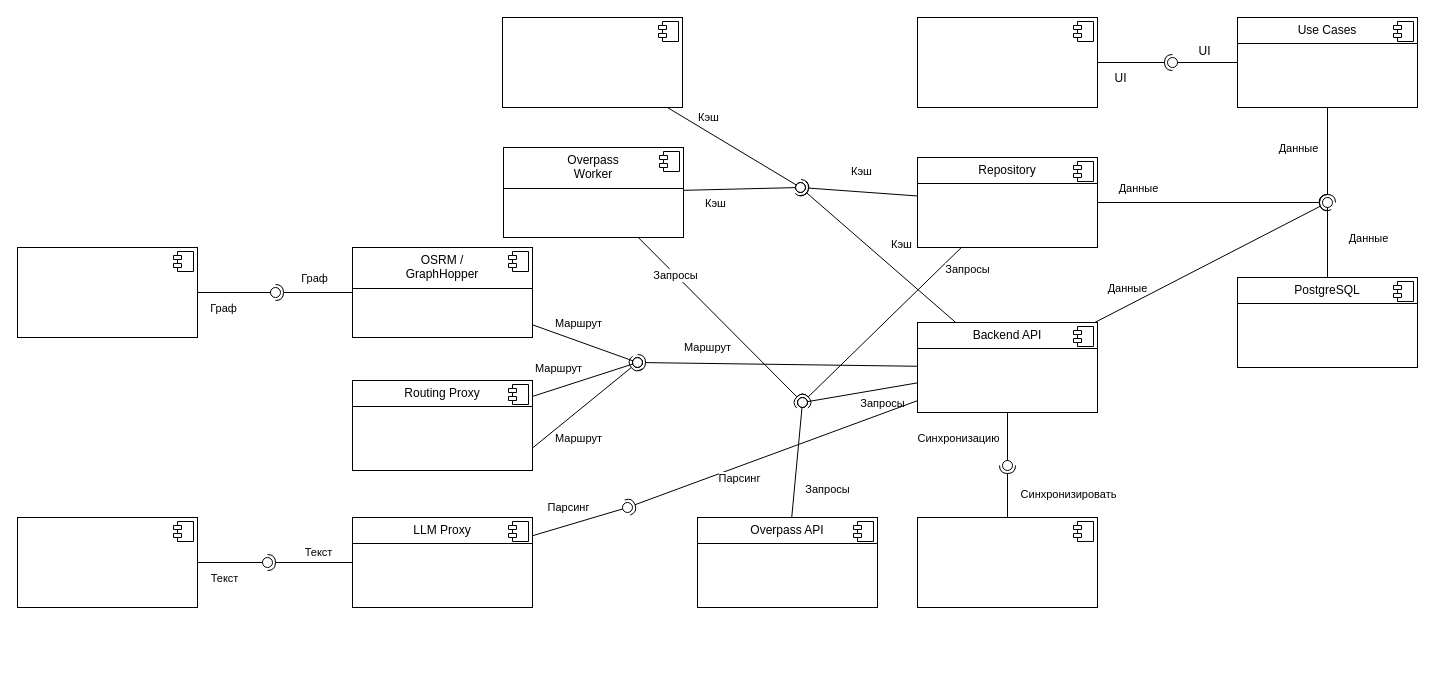
Image size: 1440x685. Some labels were removed from this diagram. The centre of each missing label's shape, as x and y in pixels:
"Android App (UI + ViewModel)" belongs at (1007,62).
"LLM (YandexGPT/GPT)" belongs at (107,562).
"OSM Graph" belongs at (107,292).
"Room Cache" belongs at (592,62).
"WorkManager Sync" belongs at (1007,562).
